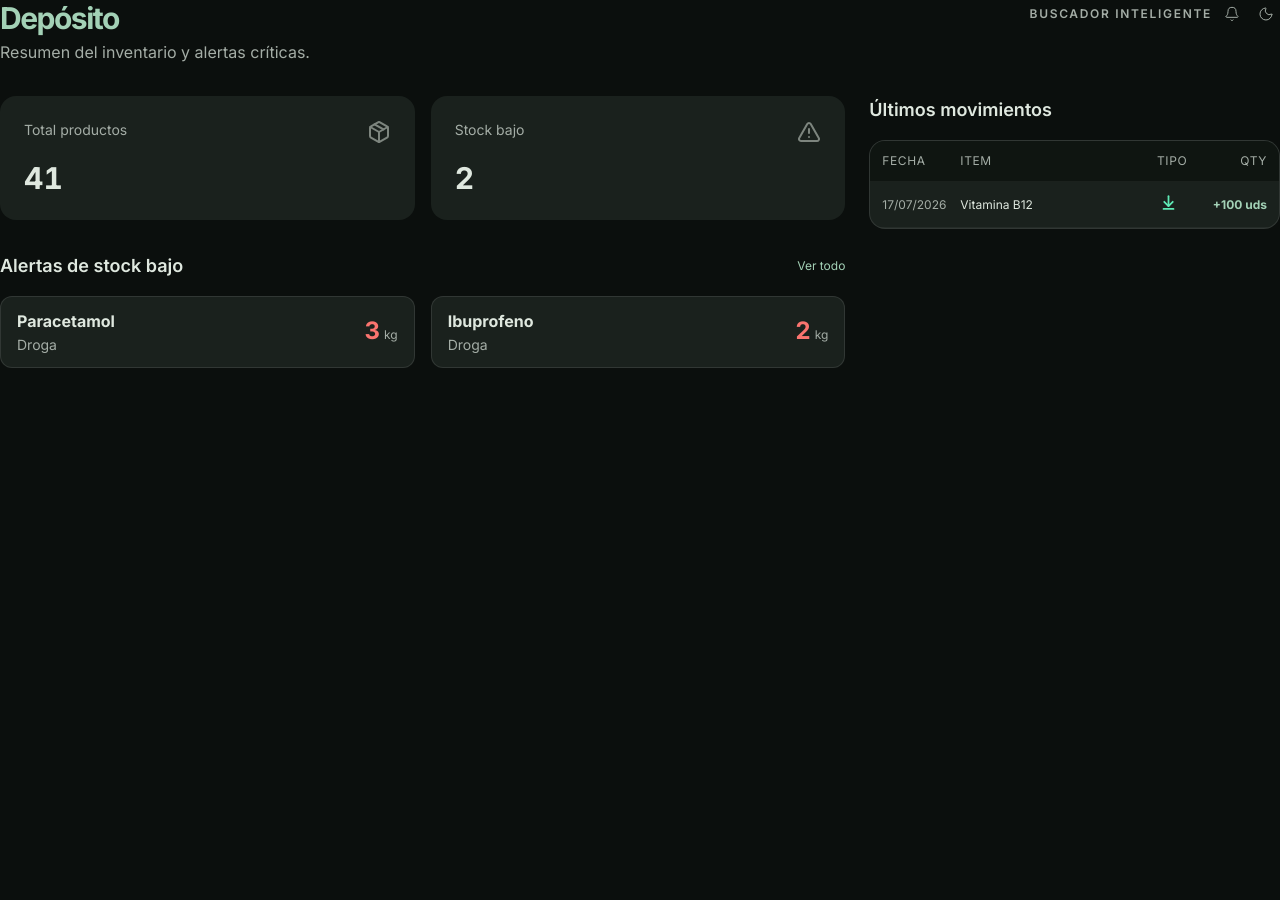
Test: DashboardPage (Depósito) › shows stock bajo section when there is low stock
The image size is (1280, 900).
Expected: the heading "Alertas de stock bajo" is shown, [0, 252, 183, 280]
Click the button with aria-label "Ver productos con stock bajo": (638, 158) [431, 96, 845, 220]
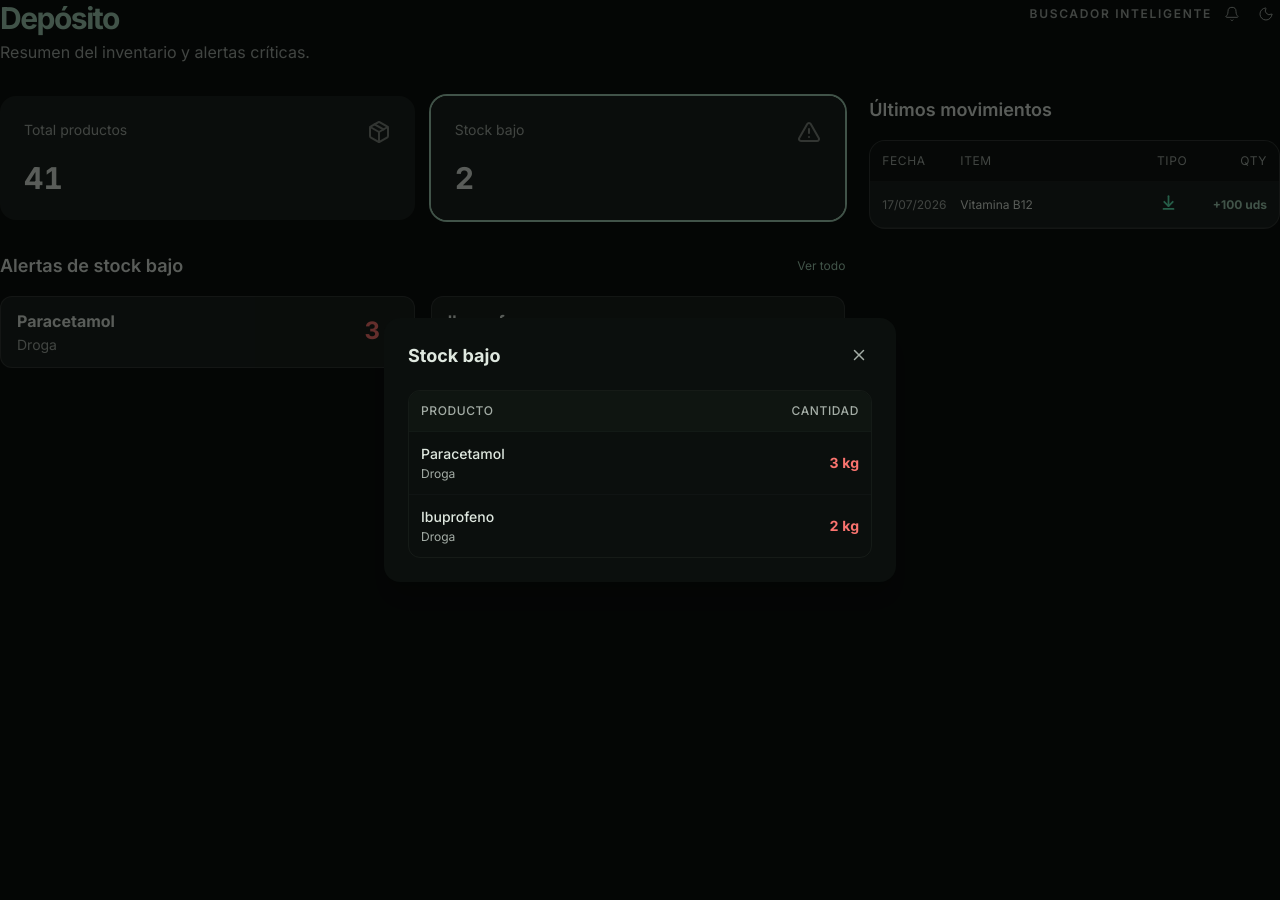
Now the dialog is shown, box [384, 318, 896, 582]
Now the text "Paracetamol" is shown, box [421, 445, 505, 462]
Now the text "Droga" is shown 2 times, box [421, 466, 455, 481]; [421, 529, 455, 544]
